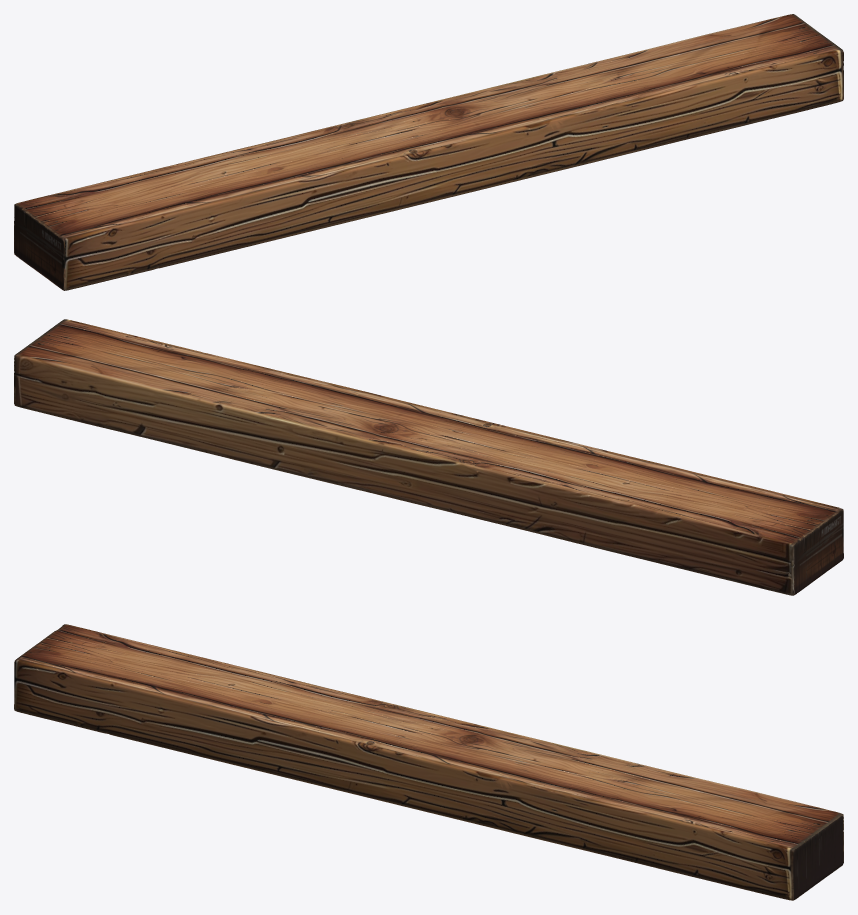
File: Plank3.fbx
3 views of the same model, one above another, from view 1: azimuth 30°, elevation 25°; view 2: azimuth 150°, elevation 25°; view 3: azimuth 330°, elevation 25° (orthographic).
Visible parts, largest first — view 1: Mesh_0; view 2: Mesh_0; view 3: Mesh_0.
Boxes of the visible parts, box(x1,y1,x2,y2) form: Mesh_0: box(14, 14, 843, 290); Mesh_0: box(14, 319, 843, 595); Mesh_0: box(14, 624, 843, 900).
Bounding box in the file's own units: 200 × 12.86 × 22.53.
1 material, 1 textured.
